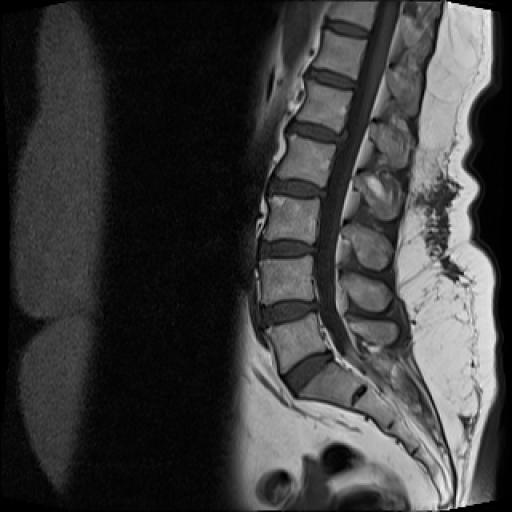L1: (296, 79, 352, 132)
L2: (276, 136, 336, 188)
L3: (263, 198, 320, 244)
L4: (260, 256, 313, 304)
L5: (266, 313, 326, 372)
S1: (297, 359, 365, 408)
